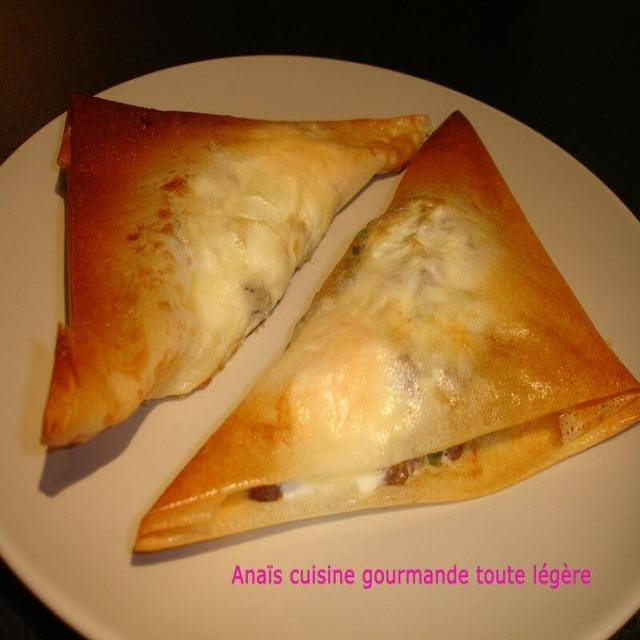brik: (162, 118, 619, 581), (39, 56, 422, 447)
